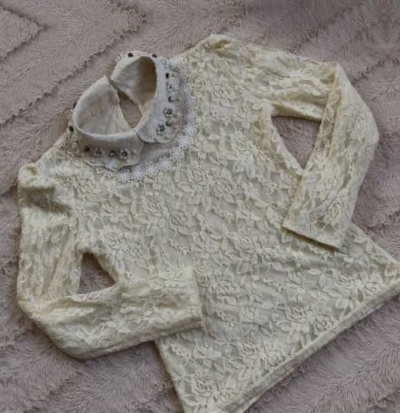Blouse: (0, 35, 400, 413), (392, 0, 400, 396)
